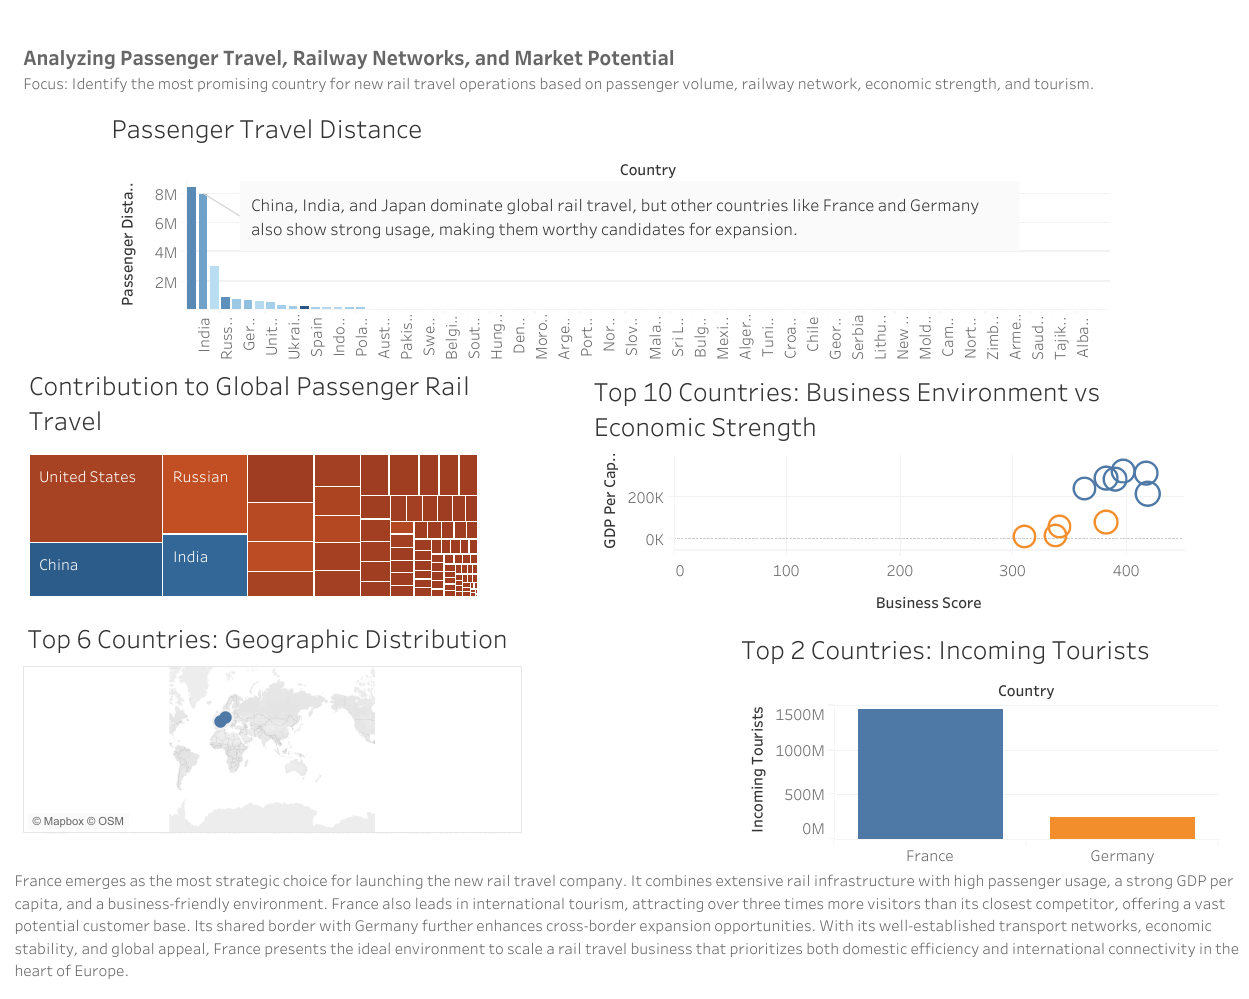

Layout of this report page (visuals, bound fields, positions):
{"tool":"tableau","page":{"name":"Main Dashboard","canvas":[1000,800],"ordinal":0},"visuals":[{"type":"text","box":[16,21,937,66]},{"type":"worksheet","title":"Passenger Travel Distance with Rail Network Size","mark":"Automatic","rows":["Railways, Passengers Carried"],"cols":["Country Name"],"box":[85,82,803,207]},{"type":"worksheet","title":"Contribution to Global Passenger Rail Travel","mark":"Automatic","box":[19,288,367,194]},{"type":"worksheet","title":"Top 10 Countries: Business Environment vs Economic Strength","mark":"Automatic","rows":["Calculation_1055535320645843"],"cols":["Ease of Doing Business Score"],"box":[471,293,476,204]},{"type":"worksheet","title":"Top 6 Countries: Geographic Distribution","mark":"Automatic","box":[18,490,400,177]},{"type":"worksheet","title":"Top 2 Countries: Incoming Tourists","mark":"Automatic","rows":["International Tourism, Number of Arrivals"],"cols":["Country Name"],"box":[589,499,386,194]},{"type":"text","box":[9,691,985,97]}]}

Visuals, with their boxes in screenshot pixels (x1, y1, x2, y2), scaled from the page's 1000x800 canvas onto the 1249x999 screenshot:
text: region(20, 26, 1190, 109)
"Passenger Travel Distance with Rail Network Size" worksheet: region(106, 102, 1109, 361)
"Contribution to Global Passenger Rail Travel" worksheet: region(24, 360, 482, 602)
"Top 10 Countries: Business Environment vs Economic Strength" worksheet: region(588, 366, 1183, 621)
"Top 6 Countries: Geographic Distribution" worksheet: region(22, 612, 522, 833)
"Top 2 Countries: Incoming Tourists" worksheet: region(736, 623, 1218, 865)
text: region(11, 863, 1242, 984)
